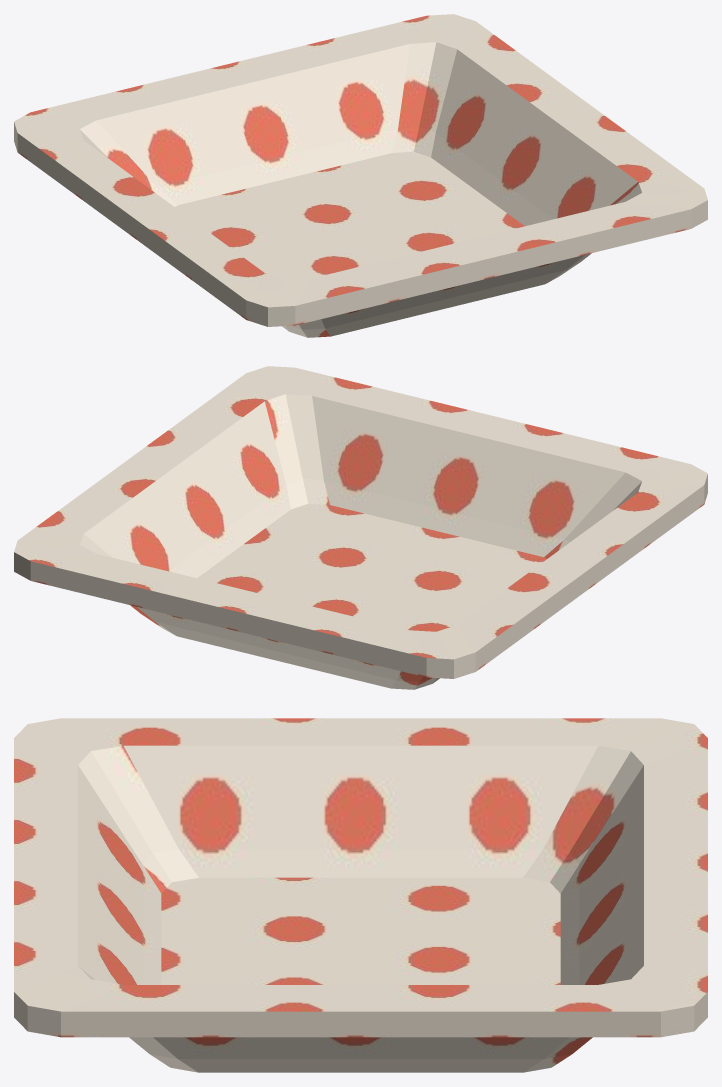
The model's file is plates_c.glb.
The picture shows the model from 3 angles, top to bottom: view 1: azimuth 30°, elevation 25°; view 2: azimuth 150°, elevation 25°; view 3: azimuth 270°, elevation 25°; orthographic projection. The views are drawn at different scales.
Visible parts, largest first — view 1: body; view 2: body; view 3: body.
Boxes of the visible parts, <box> form: body: <box>14,14,707,337</box>; body: <box>14,366,707,689</box>; body: <box>14,718,707,1072</box>.
Size of the model in its own units: 0.18 by 0.035 by 0.18.
Materials: 1 (1 with a texture image).
